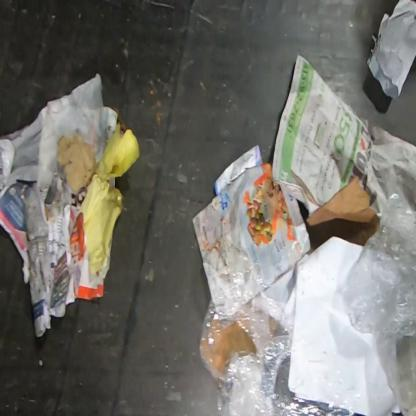cardboard: (307, 175, 380, 252)
soft_plastic: (198, 250, 355, 416), (343, 192, 415, 337)
